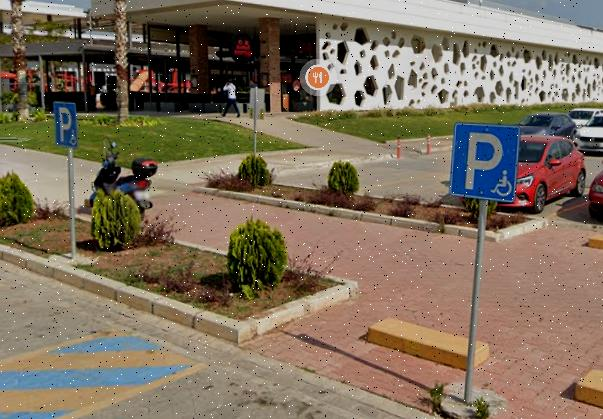disabledpark: (455, 125, 514, 200), (54, 102, 76, 147)
